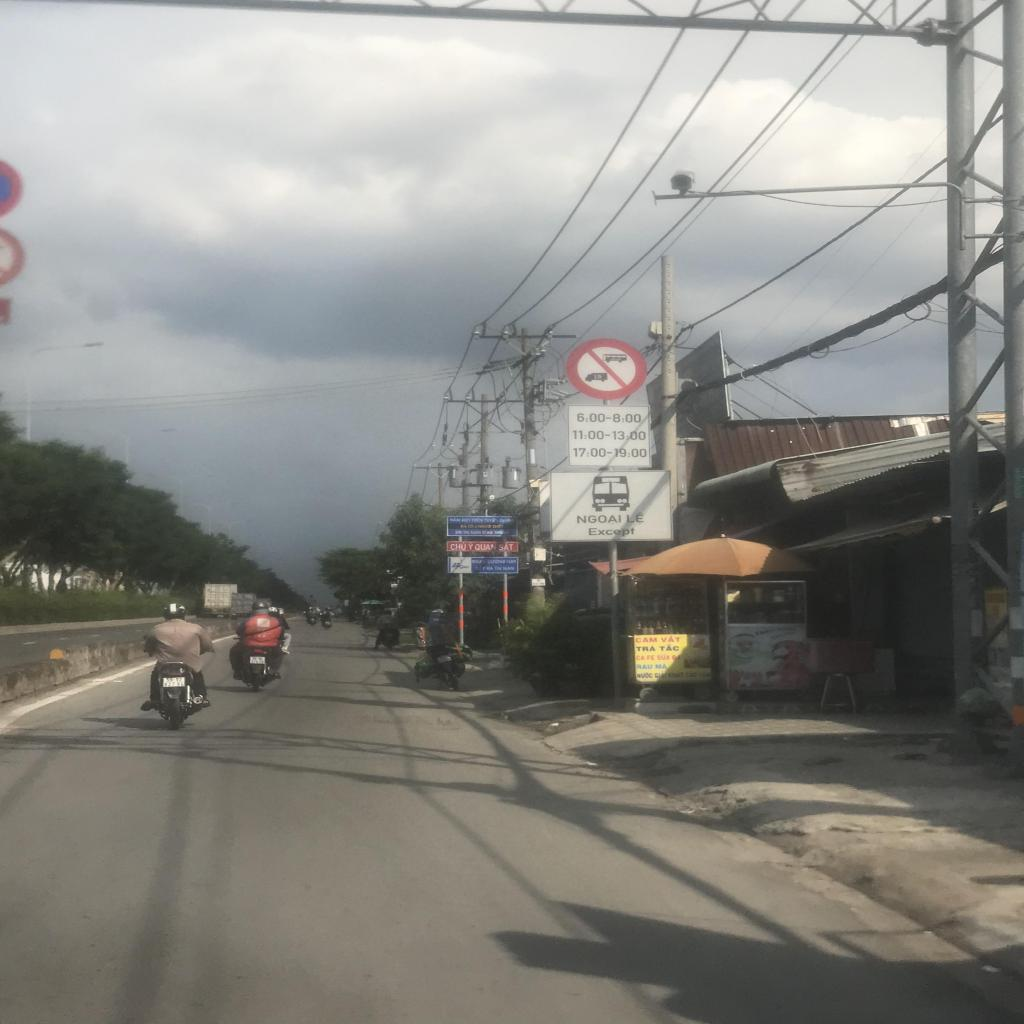cam_o_to_tai_va_xe_khach: (566, 337, 648, 400)
khac: (550, 471, 672, 541), (567, 405, 651, 466)
